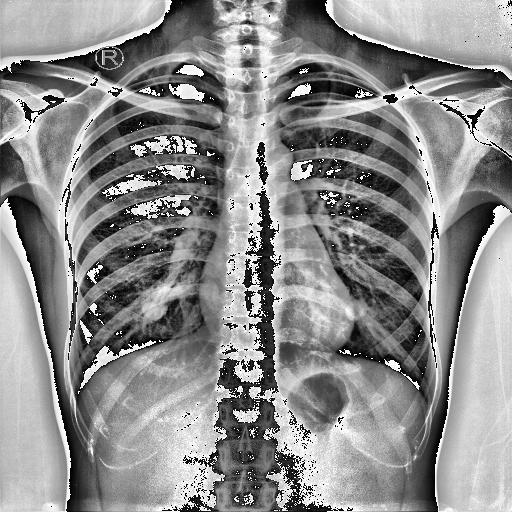8- Nodule-Mass: (137, 299, 167, 321), (140, 300, 168, 320), (342, 298, 367, 320), (344, 298, 366, 321), (346, 300, 368, 322), (142, 300, 164, 318)
